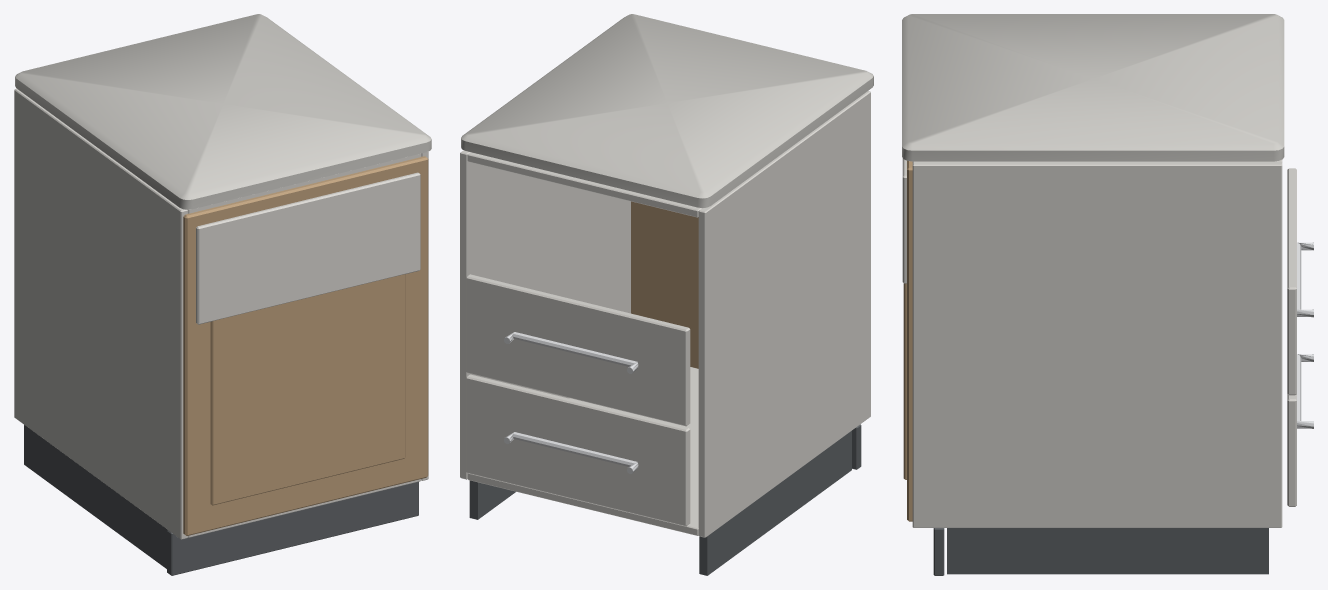
Rendered from bakery-and-cafe-counter-module-600-drawers-9b930b7d__22123.glb.
3 views of the same model, side by side, from view 1: azimuth 30°, elevation 25°; view 2: azimuth 150°, elevation 25°; view 3: azimuth 270°, elevation 25° (orthographic). The views are drawn at different scales.
Visible parts, largest first — view 1: counter-module-600-drawers, drawer-top; view 2: counter-module-600-drawers; view 3: counter-module-600-drawers, drawer-top.
Boxes of the visible parts, <box> form: counter-module-600-drawers: <box>14,14,431,575</box>; drawer-top: <box>196,172,420,324</box>; counter-module-600-drawers: <box>460,14,873,575</box>; counter-module-600-drawers: <box>902,14,1313,575</box>; drawer-top: <box>902,158,906,283</box>.
Size of the model in its own units: 0.606 by 0.9 by 0.78.
